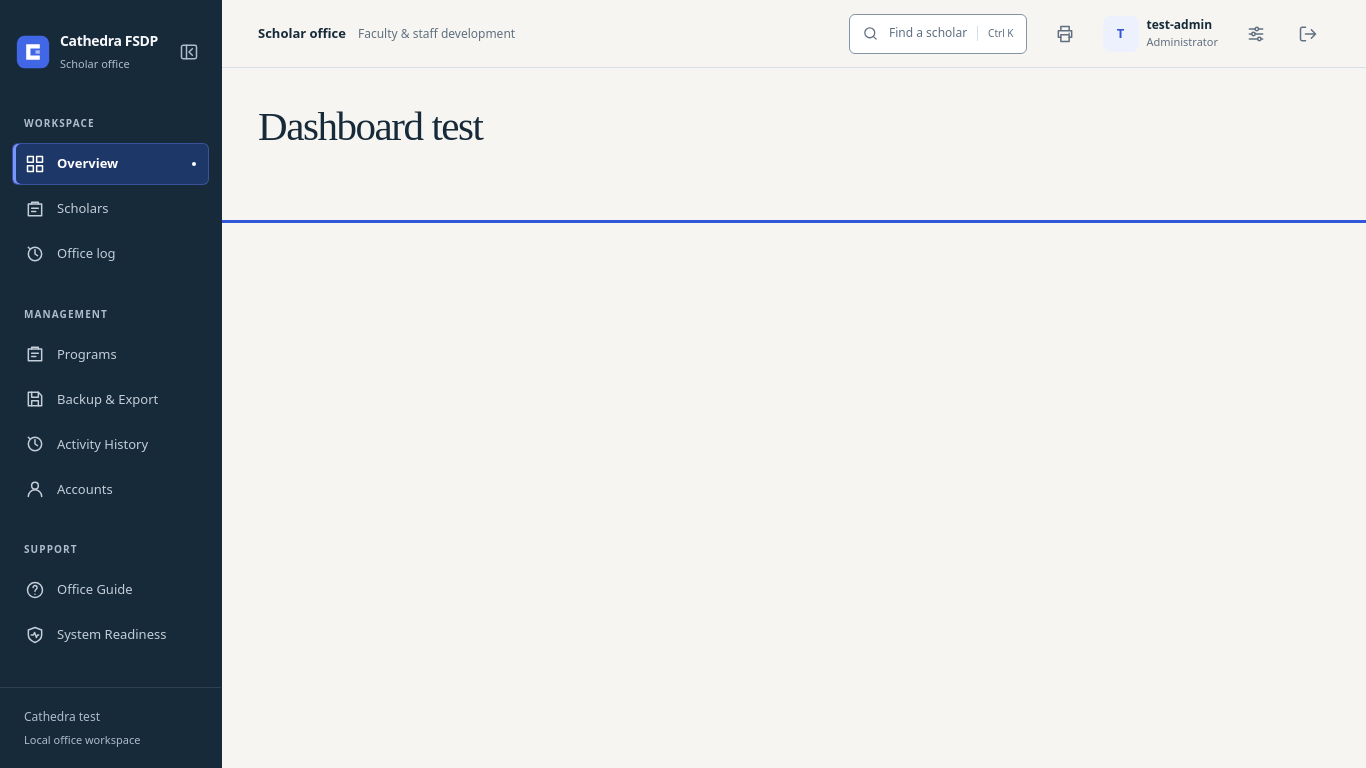
Test case: desktop has one sidebar toggle and no calendar destination
Click the button named "Collapse sidebar".
click(189, 52)  # box [173, 32, 205, 72]
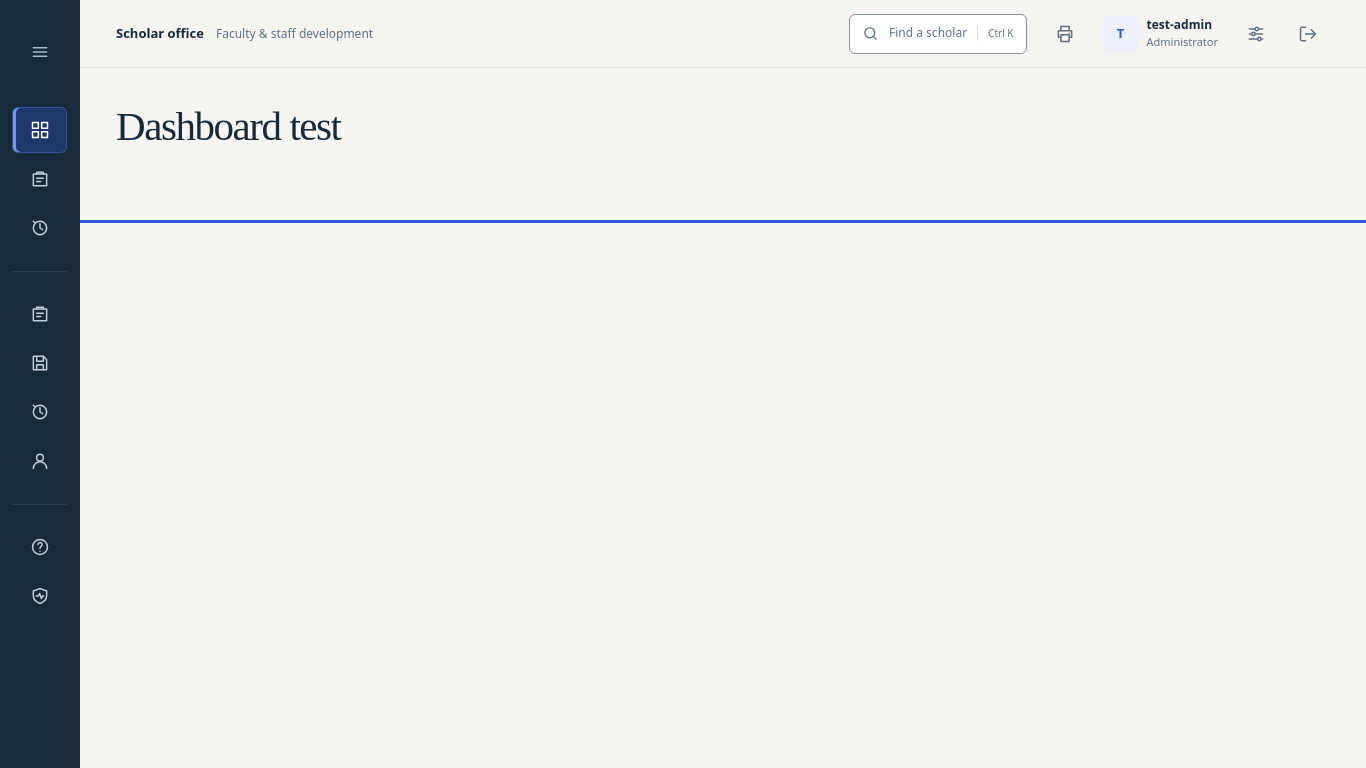
Expected: the button named "Expand sidebar" is collapsed
Expected: the text "Cathedra FSDP" is gone
Click the button named "Expand sidebar".
click(40, 52)  # box [24, 32, 56, 72]
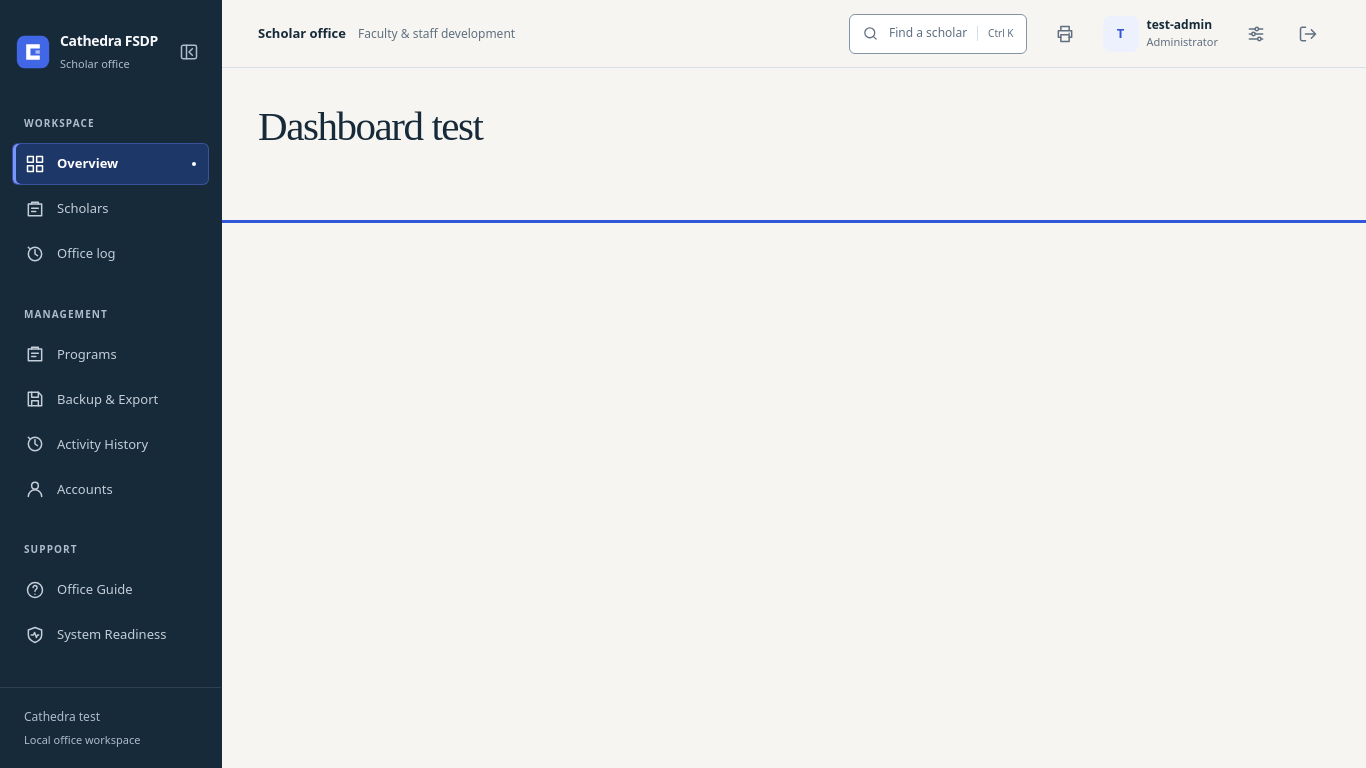
Expected: the text "Cathedra FSDP" is shown, [60, 32, 163, 51]
